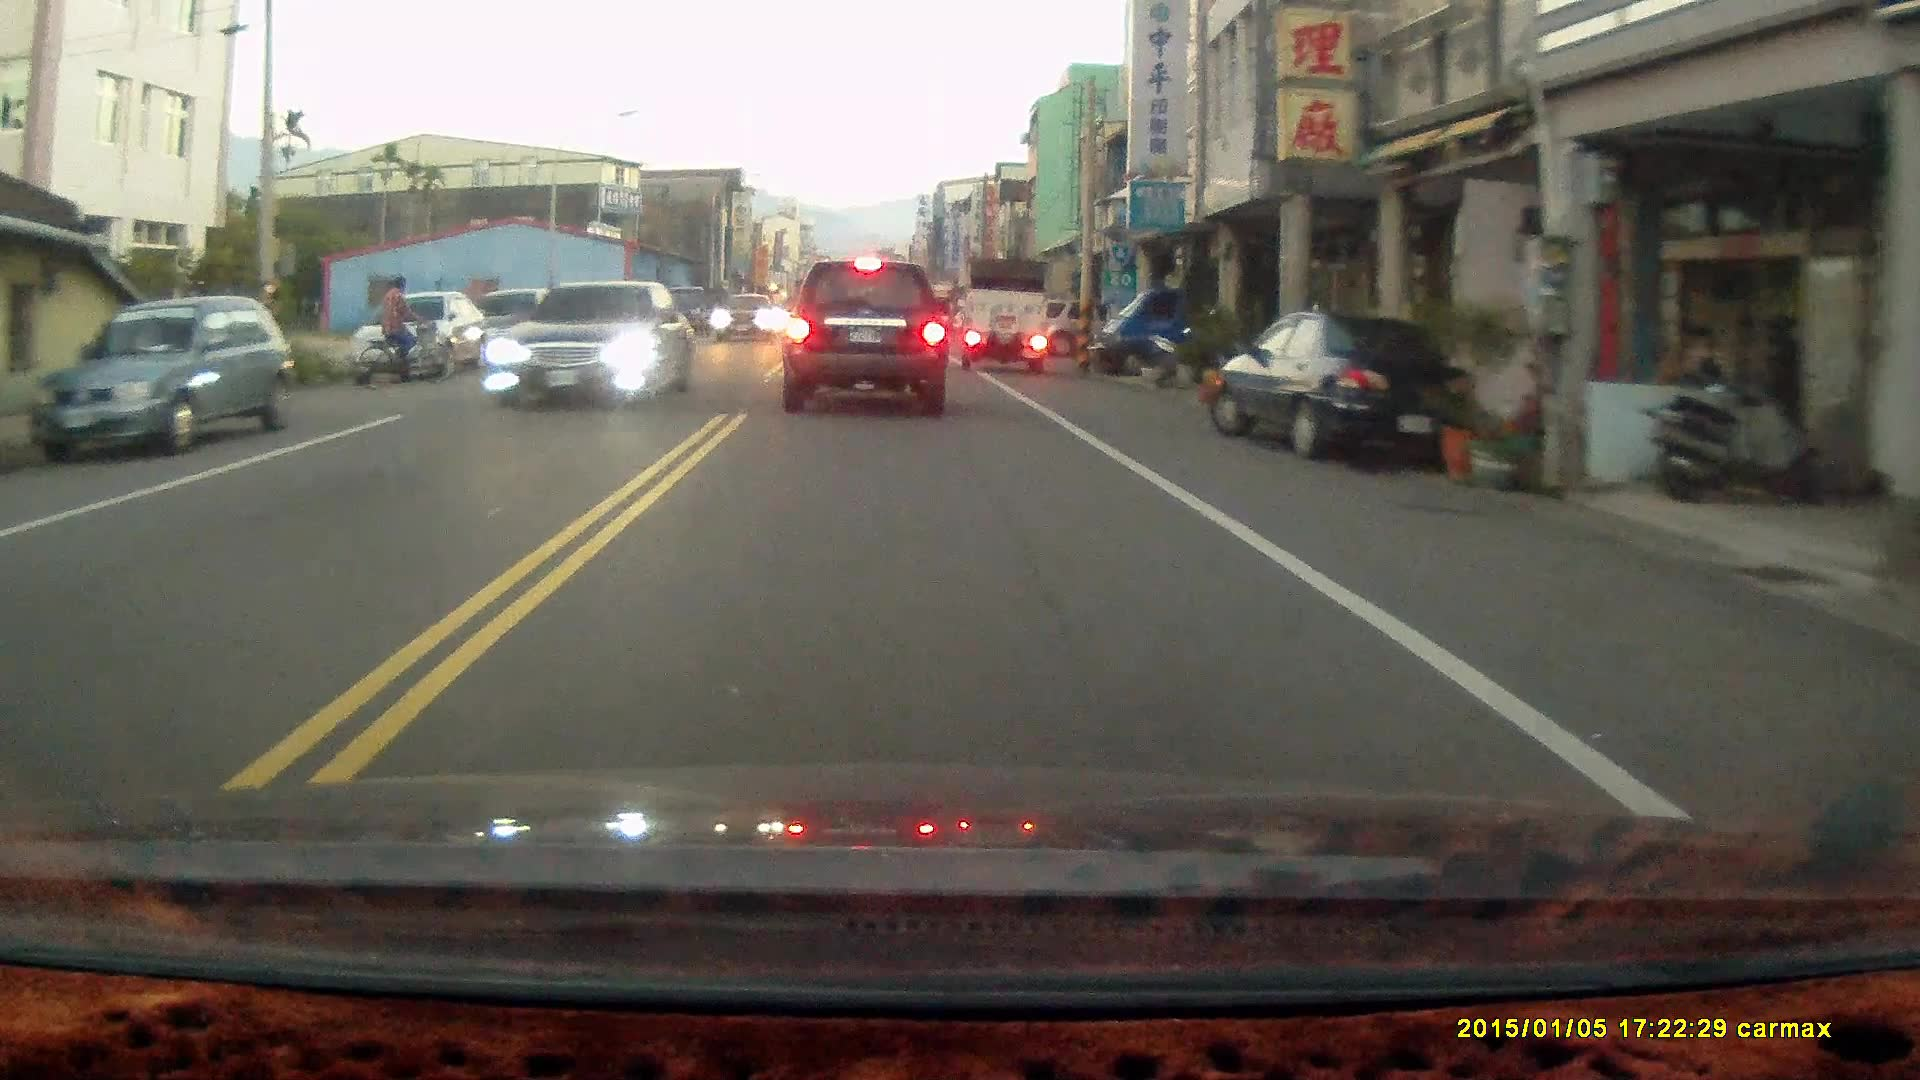rider: (351, 277, 454, 389)
vehicle: (24, 294, 289, 463), (1210, 313, 1474, 466), (483, 282, 700, 416), (786, 265, 951, 423), (1089, 275, 1236, 382), (347, 297, 501, 391), (957, 258, 1050, 374), (716, 300, 785, 348)
